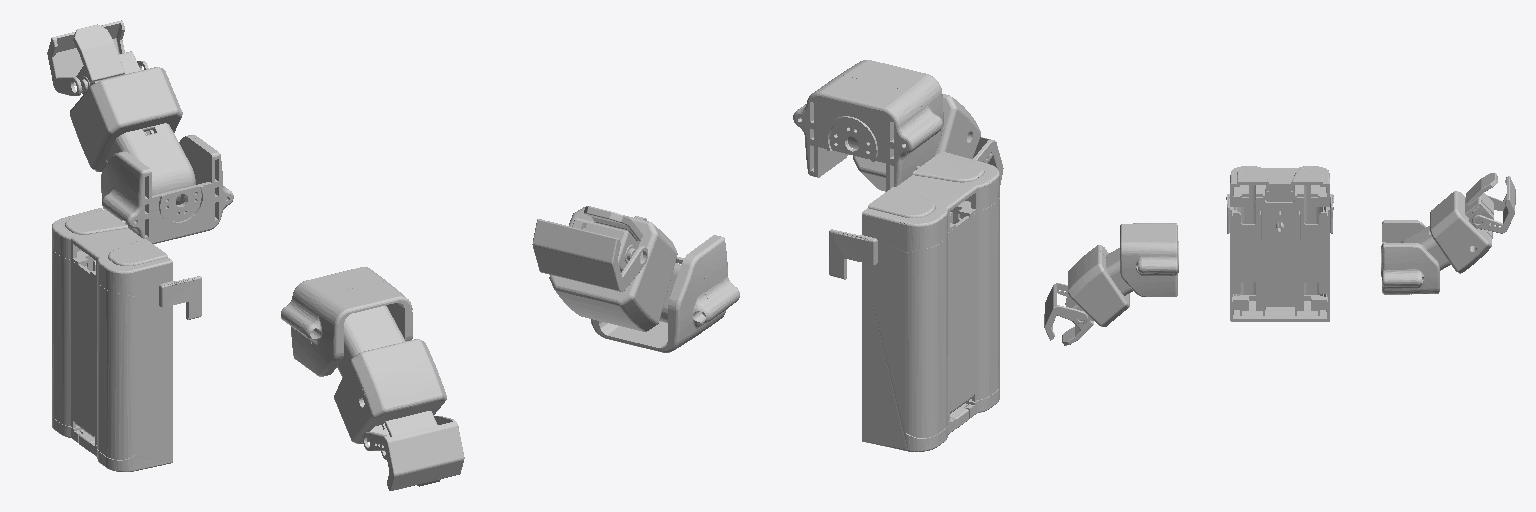
URDF robot description (rapiro):
<?xml version="1.0"?>
<robot name="rapiro">

  <!-- BaseLink -->

  <link name="base_link"/>
  
  <joint name="base_waist_fix" type="fixed">
    <parent link="base_link"/>
    <origin xyz="0 0 .065" />
    <child link="waist"/>
  </joint>
  
  <!-- Torso and Head -->
  
  <link name="waist">
    <visual>
      <geometry>
        <mesh filename="package://rapiro_description/meshes/waist.stl"/>
      </geometry>
      <material name="rapiro_white" />
    </visual>
  </link>
  
  <joint name="waist_jnt" type="revolute">
    <parent link="waist"/>
    <origin xyz="0 0 .015" rpy="0 0 -1.571"/>
    <child link="body"/>
    <axis xyz="0 0 1"/>
    <limit effort="1000.0" lower=".175" upper="2.967" velocity="10"/>
  </joint>
  
  <link name="body">
    <visual>
      <origin xyz="0 0 .02"/>
      <geometry>
        <mesh filename="package://rapiro_description/meshes/body.stl"/>
      </geometry>
      <material name="rapiro_white" />
    </visual>
    <visual>
      <origin xyz="-.065 0 .03"/>
      <geometry>
        <mesh filename="package://rapiro_description/meshes/backpack.stl"/>
      </geometry>
      <material name="rapiro_white" />
    </visual>
  </link>
  
  <joint name="head_jnt" type="revolute">
    <parent link="body"/>
    <origin xyz="0 0 .0375" rpy="0 0 -1.571"/>
    <child link="head"/>
    <axis xyz="0 0 1"/>
    <limit effort="1000.0" lower=".175" upper="2.967" velocity="10"/>
  </joint>
  
  <link name="head">
    <visual>
      <origin xyz="0 0 .055"/>
      <geometry>
        <mesh filename="package://rapiro_description/meshes/head.stl"/>
      </geometry>
      <material name="rapiro_white" />
    </visual>
  </link>
  
  <!-- Legs and Feet -->
  
  <joint name="r_foot_y_jnt" type="revolute">
    <parent link="waist"/>
    <origin xyz="0 -.03 -.015" rpy="3.142 0 1.571"/>
    <child link="r_leg"/>
    <axis xyz="0 0 1"/>
    <limit effort="1000.0" lower=".873" upper="2.269" velocity="10"/>
  </joint>
  
  <link name="r_leg" />
  
  <joint name="r_foot_p_jnt" type="revolute">
    <parent link="r_leg"/>
    <origin xyz="0 0 .035" rpy="0 -1.571 0"/>
    <child link="r_foot"/>
    <axis xyz="0 0 1"/>
    <limit effort="1000.0" lower=".611" upper="2.269" velocity="10"/>
  </joint>
  
  <link name="r_foot">
    <visual>
      <geometry>
        <mesh filename="package://rapiro_description/meshes/r_foot.stl"/>
      </geometry>
      <material name="rapiro_white" />
    </visual>
  </link>
  
  <joint name="l_foot_y_jnt" type="revolute">
    <parent link="waist"/>
    <origin xyz="0 .03 -.015" rpy="3.142 0 1.571"/>
    <child link="l_leg"/>
    <axis xyz="0 0 1"/>
    <limit effort="1000.0" lower=".873" upper="2.269" velocity="10"/>
  </joint>
  
  <link name="l_leg" />
  
  <joint name="l_foot_p_jnt" type="revolute">
    <parent link="l_leg"/>
    <origin xyz="0 0 .035" rpy="0 -1.571 0"/>
    <child link="l_foot"/>
    <axis xyz="0 0 1"/>
    <limit effort="1000.0" lower=".873" upper="2.531" velocity="10"/>
  </joint>
  
  <link name="l_foot">
    <visual>
      <geometry>
        <mesh filename="package://rapiro_description/meshes/l_foot.stl"/>
      </geometry>
      <material name="rapiro_white" />
    </visual>
  </link>
  
  <!-- Arms and Hands -->
  
  <joint name="r_shld_r_jnt" type="revolute">
    <parent link="body"/>
    <origin xyz="0 -.06 .0225" rpy="0 1.571 -1.571"/>
    <child link="r_shoulder"/>
    <axis xyz="0 0 1"/>
    <limit effort="1000.0" lower="0" upper="3.142" velocity="10"/>
  </joint>
  
  <link name="r_shoulder">
    <visual>
      <origin xyz="0 0 .02" />
      <geometry>
        <mesh filename="package://rapiro_description/meshes/shoulder.stl"/>
      </geometry>
      <material name="rapiro_white" />
    </visual>
  </link>
  
  <joint name="r_shld_p_jnt" type="revolute">
    <parent link="r_shoulder"/>
    <origin xyz="0 0 .0225" rpy="-1.571 -2.269 0"/>
    <child link="r_arm"/>
    <axis xyz="0 0 1"/>
    <limit effort="1000.0" lower=".436" upper="2.356" velocity="10"/>
  </joint>
  
  <link name="r_arm">
    <visual>
      <origin xyz="0 0 .004" />
      <geometry>
        <mesh filename="package://rapiro_description/meshes/r_arm.stl"/>
      </geometry>
      <material name="rapiro_white" />
    </visual>
  </link>
  
  <joint name="r_hand_jnt" type="revolute">
    <parent link="r_arm"/>
    <origin xyz=".0505 0 0" rpy="3.142 0 1.920"/>
    <child link="r_hand"/>
    <axis xyz="0 0 1"/>
    <limit effort="1000.0" lower=".960" upper="1.920" velocity="10"/>
  </joint>
  
  <link name="r_hand">
    <visual>
      <origin xyz="0 0 0" />
      <geometry>
        <mesh filename="package://rapiro_description/meshes/r_hand.stl"/>
      </geometry>
      <material name="rapiro_white" />
    </visual>
  </link>
  
  <joint name="l_shld_r_jnt" type="revolute">
    <parent link="body"/>
    <origin xyz="0 .06 .0225" rpy="0 -1.571 -1.571"/>
    <child link="l_shoulder"/>
    <axis xyz="0 0 1"/>
    <limit effort="1000.0" lower="0" upper="3.142" velocity="10"/>
  </joint>
  
  <link name="l_shoulder">
    <visual>
      <origin xyz="0 0 .02" />
      <geometry>
        <mesh filename="package://rapiro_description/meshes/shoulder.stl"/>
      </geometry>
      <material name="rapiro_white" />
    </visual>
  </link>
  
  <joint name="l_shld_p_jnt" type="revolute">
    <parent link="l_shoulder"/>
    <origin xyz="0 0 .0225" rpy="1.571 .873 0"/>
    <child link="l_arm"/>
    <axis xyz="0 0 1"/>
    <limit effort="1000.0" lower=".785" upper="2.705" velocity="10"/>
  </joint>
  
  <link name="l_arm">
    <visual>
      <origin xyz="0 0 .004" />
      <geometry>
        <mesh filename="package://rapiro_description/meshes/l_arm.stl"/>
      </geometry>
      <material name="rapiro_white" />
    </visual>
  </link>
  
  <joint name="l_hand_jnt" type="revolute">
    <parent link="l_arm"/>
    <origin xyz=".0505 0 0" rpy="3.142 0 .960"/>
    <child link="l_hand"/>
    <axis xyz="0 0 1"/>
    <limit effort="1000.0" lower=".960" upper="1.920" velocity="10"/>
  </joint>
  
  <link name="l_hand">
    <visual>
      <origin xyz="0 0 0" />
      <geometry>
        <mesh filename="package://rapiro_description/meshes/l_hand.stl"/>
      </geometry>
      <material name="rapiro_white" />
    </visual>
  </link>
  
  <!-- Sensor Frames -->
  
  <joint name="usr_fix" type="fixed">
    <parent link="head"/>
    <origin xyz=".065 0 .045"/>
    <child link="usr_frame"/>
  </joint>
  
  <link name="usr_frame"/>
  
  <material name="rapiro_white">
    <color rgba=".8 .8 .8 1.0"/>
  </material>
  
</robot>

--- Render facts (derived) ---
3 views of the same robot in one strip: view 1: azimuth 30°, elevation 25°; view 2: azimuth 150°, elevation 25°; view 3: azimuth 270°, elevation 25° (orthographic).
Robot: rapiro — 15 links, 14 joints (12 revolute, 2 fixed); root link base_link; default pose: all joints at 0 but 10 set to mid-range because 0 is outside their limits (waist_jnt = 1.57, head_jnt = 1.57, r_foot_y_jnt = 1.57, r_foot_p_jnt = 1.44, l_foot_y_jnt = 1.57, l_foot_p_jnt = 1.7, +4 more).
Visible links, largest first — view 1: body, l_arm, r_arm, l_shoulder, r_shoulder, r_hand, l_hand; view 2: body, r_shoulder, l_arm, l_shoulder, l_hand, r_arm, r_hand; view 3: body, l_arm, r_shoulder, r_arm, l_shoulder, r_hand, l_hand.
Boxes of the visible links, left/top/right/bottom form: body: left=52, top=208, right=201, bottom=471; l_arm: left=70, top=24, right=195, bottom=204; r_arm: left=334, top=305, right=446, bottom=486; l_shoulder: left=101, top=135, right=233, bottom=243; r_shoulder: left=281, top=267, right=412, bottom=376; r_hand: left=363, top=416, right=464, bottom=490; l_hand: left=47, top=20, right=148, bottom=95; body: left=829, top=152, right=999, bottom=451; r_shoulder: left=793, top=60, right=943, bottom=191; l_arm: left=549, top=206, right=680, bottom=331; l_shoulder: left=591, top=216, right=739, bottom=352; l_hand: left=532, top=219, right=647, bottom=291; r_arm: left=848, top=94, right=980, bottom=191; r_hand: left=973, top=137, right=1003, bottom=184; body: left=1226, top=166, right=1333, bottom=321; l_arm: left=1401, top=173, right=1497, bottom=273; r_shoulder: left=1120, top=223, right=1178, bottom=296; r_arm: left=1062, top=245, right=1132, bottom=345; l_shoulder: left=1381, top=220, right=1439, bottom=294; r_hand: left=1044, top=283, right=1087, bottom=340; l_hand: left=1472, top=176, right=1515, bottom=233.
Size in the robot's own frame: 0.1104 by 0.2873 by 0.1226 metres.
Meshes: 11 distinct files referenced, 7 mesh visuals loaded (6 binary STL); not drawn: 5 (reference not matched to a file when rendering).